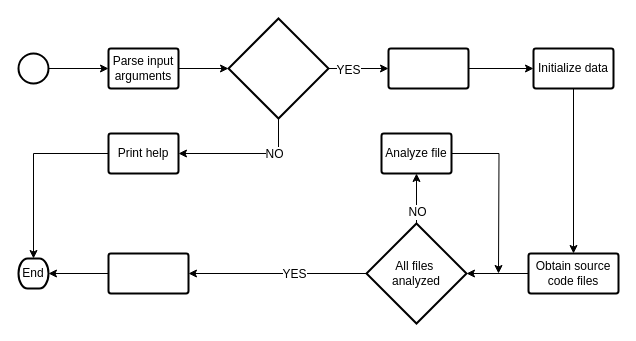
This 636x341 diagram has some shape labels left out. The centre of each missing label's shape, as x and y in pixels:
"Apply configuration" goes at (x=428, y=68).
"Correct arguments" goes at (x=278, y=68).
"Start" goes at (x=33, y=68).
"Write results" goes at (x=148, y=273).
